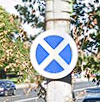oprirea_interzisa: (29, 30, 80, 81)
